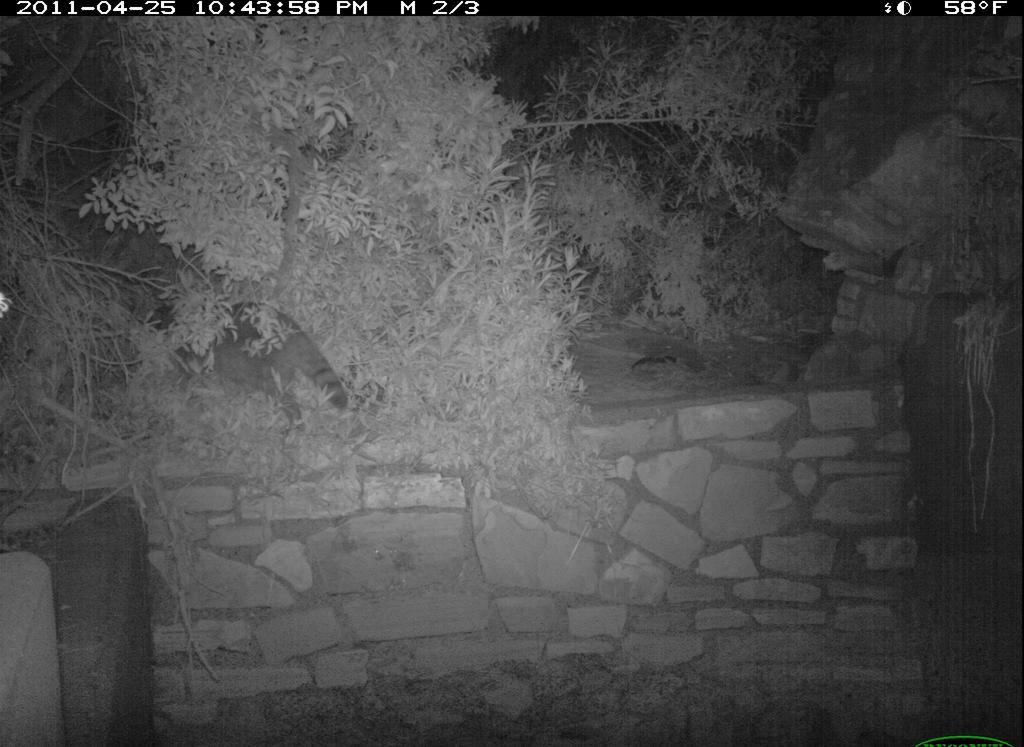raccoon: (125, 283, 364, 438)
